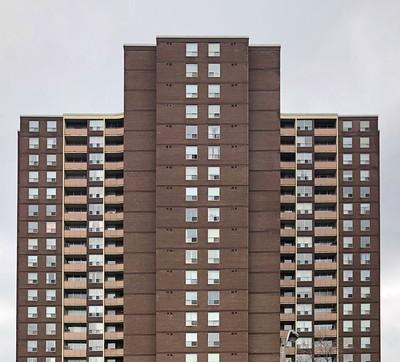building: (119, 34, 284, 362)
